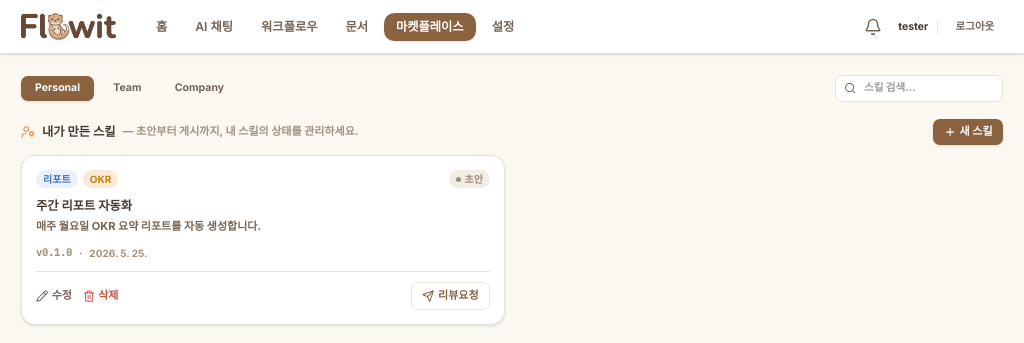
MarketplacePage — 실 API 연동(Flowit) › 검색어로 필터링하고, 결과 없으면 안내를 표시한다
The width and height of the screenshot is (1024, 343).
Expected: the text "주간 리포트 자동화" is shown, [36,198,132,213]
Type "존재하지않는스킬" into the field labelled "스킬 검색". click: (919, 88)
box: [835,75,1003,102]
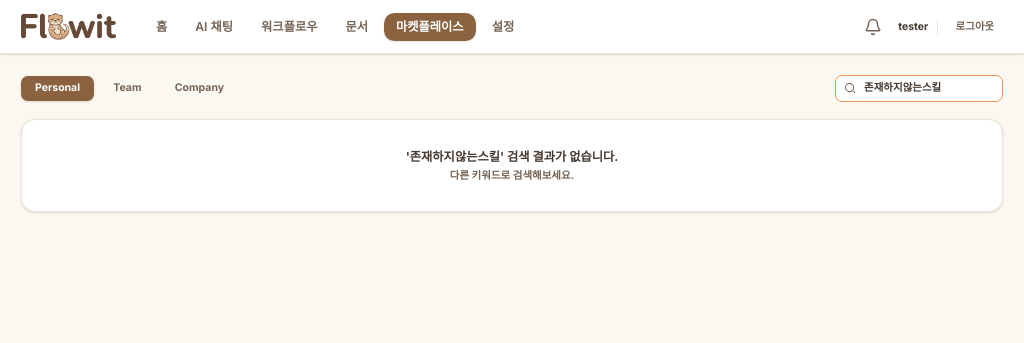
Result: the text "'존재하지않는스킬' 검색 결과가 없습니다." is shown at [406,149,618,164]
